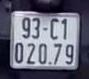0: (11, 41, 25, 64), (37, 42, 48, 64)
1: (61, 17, 69, 40)
2: (25, 41, 35, 66)
3: (31, 15, 42, 40)
7: (51, 41, 63, 66)
9: (64, 43, 76, 67), (20, 17, 31, 39)
C: (49, 17, 60, 40)
